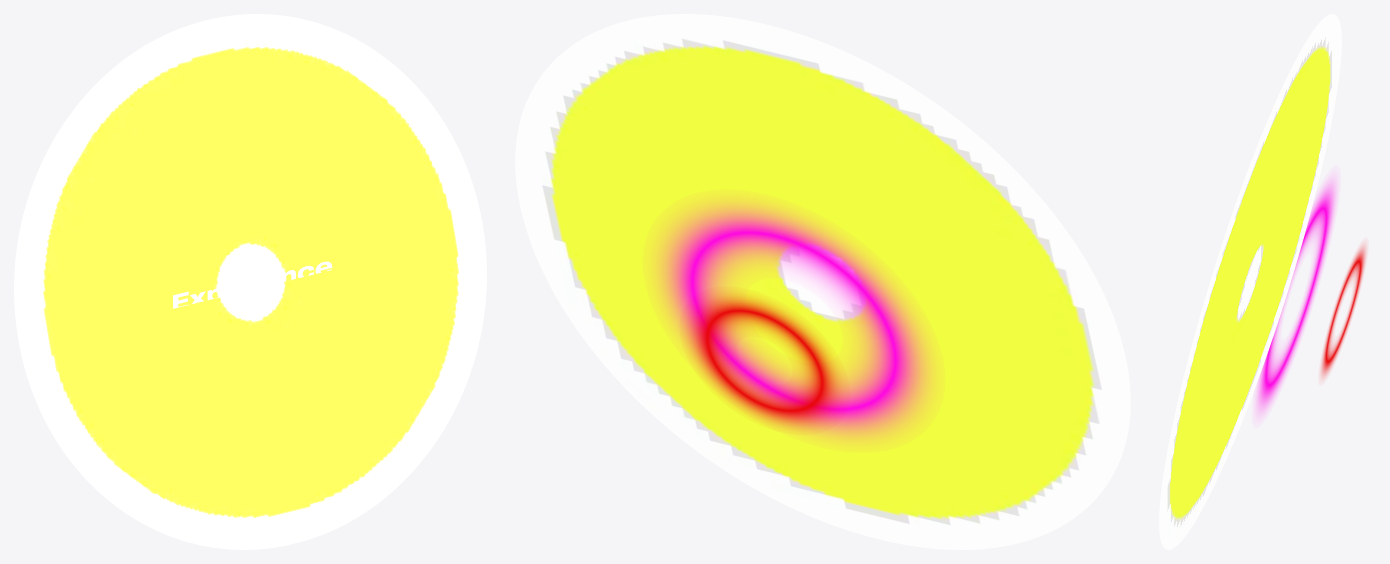
Rendered from skills-m.glb.
3 renders of one model, left to right at view 1: azimuth 30°, elevation 25°; view 2: azimuth 150°, elevation 25°; view 3: azimuth 270°, elevation 25°, orthographic. The views are drawn at different scales.
Parts seen in each view (by area): view 1: dd; view 2: dd; view 3: dd.
Boxes of the visible parts, x1,y1,x2,y2 form: dd: [14, 14, 486, 549]; dd: [515, 14, 1130, 549]; dd: [1159, 14, 1365, 549].
Size of the model in its own units: 313 by 296 by 121.
4 materials, 3 textured.
